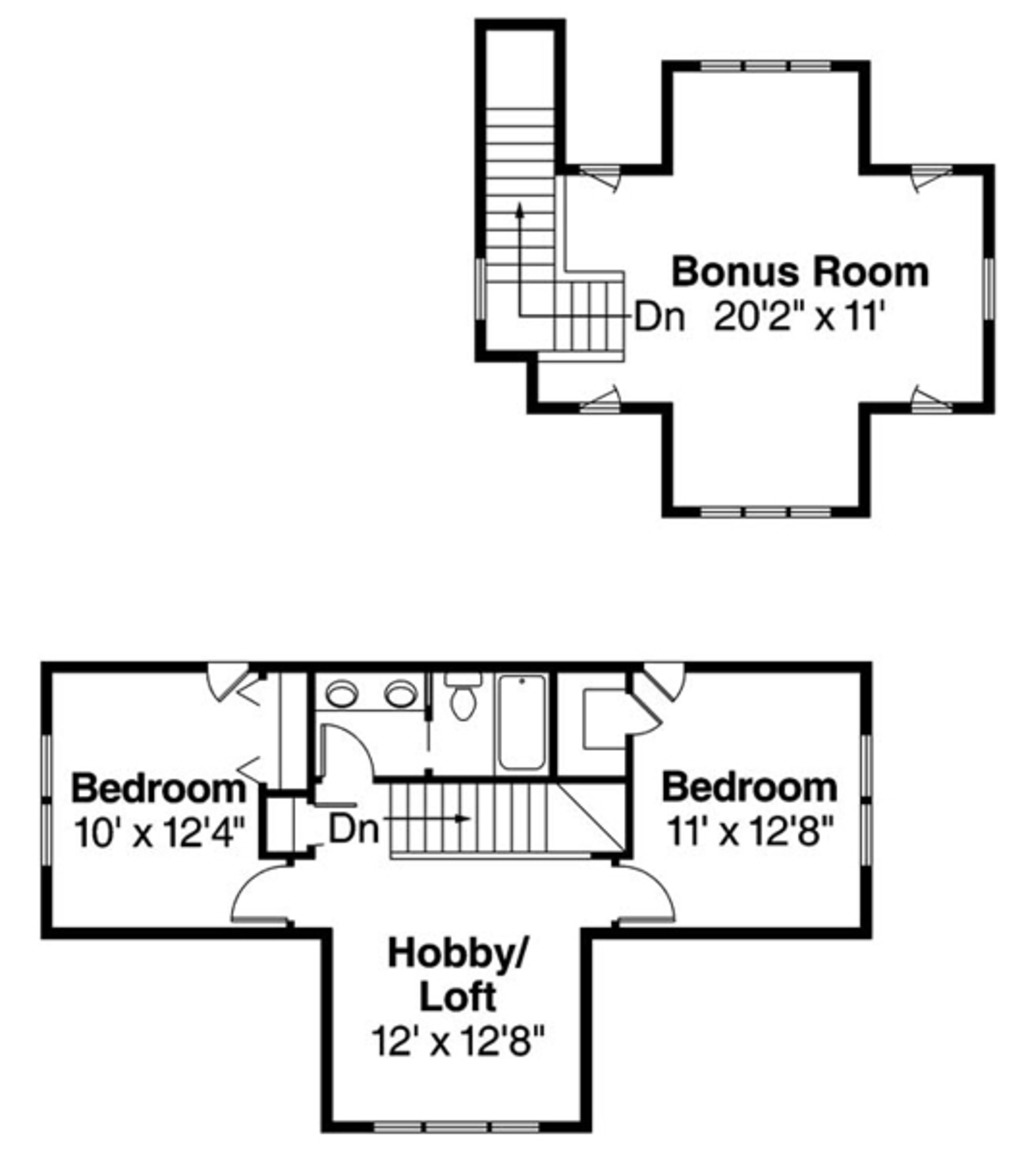door: (214, 858, 296, 927), (612, 854, 679, 931), (612, 688, 680, 758), (305, 718, 377, 781), (198, 658, 259, 708), (636, 654, 693, 706)
large_sink: (432, 668, 484, 724)
small_sink: (300, 668, 428, 711)
stairs: (470, 95, 639, 365), (378, 772, 650, 867)
tub: (489, 672, 557, 776)
window: (32, 729, 59, 876), (684, 495, 839, 518), (852, 734, 875, 870)
